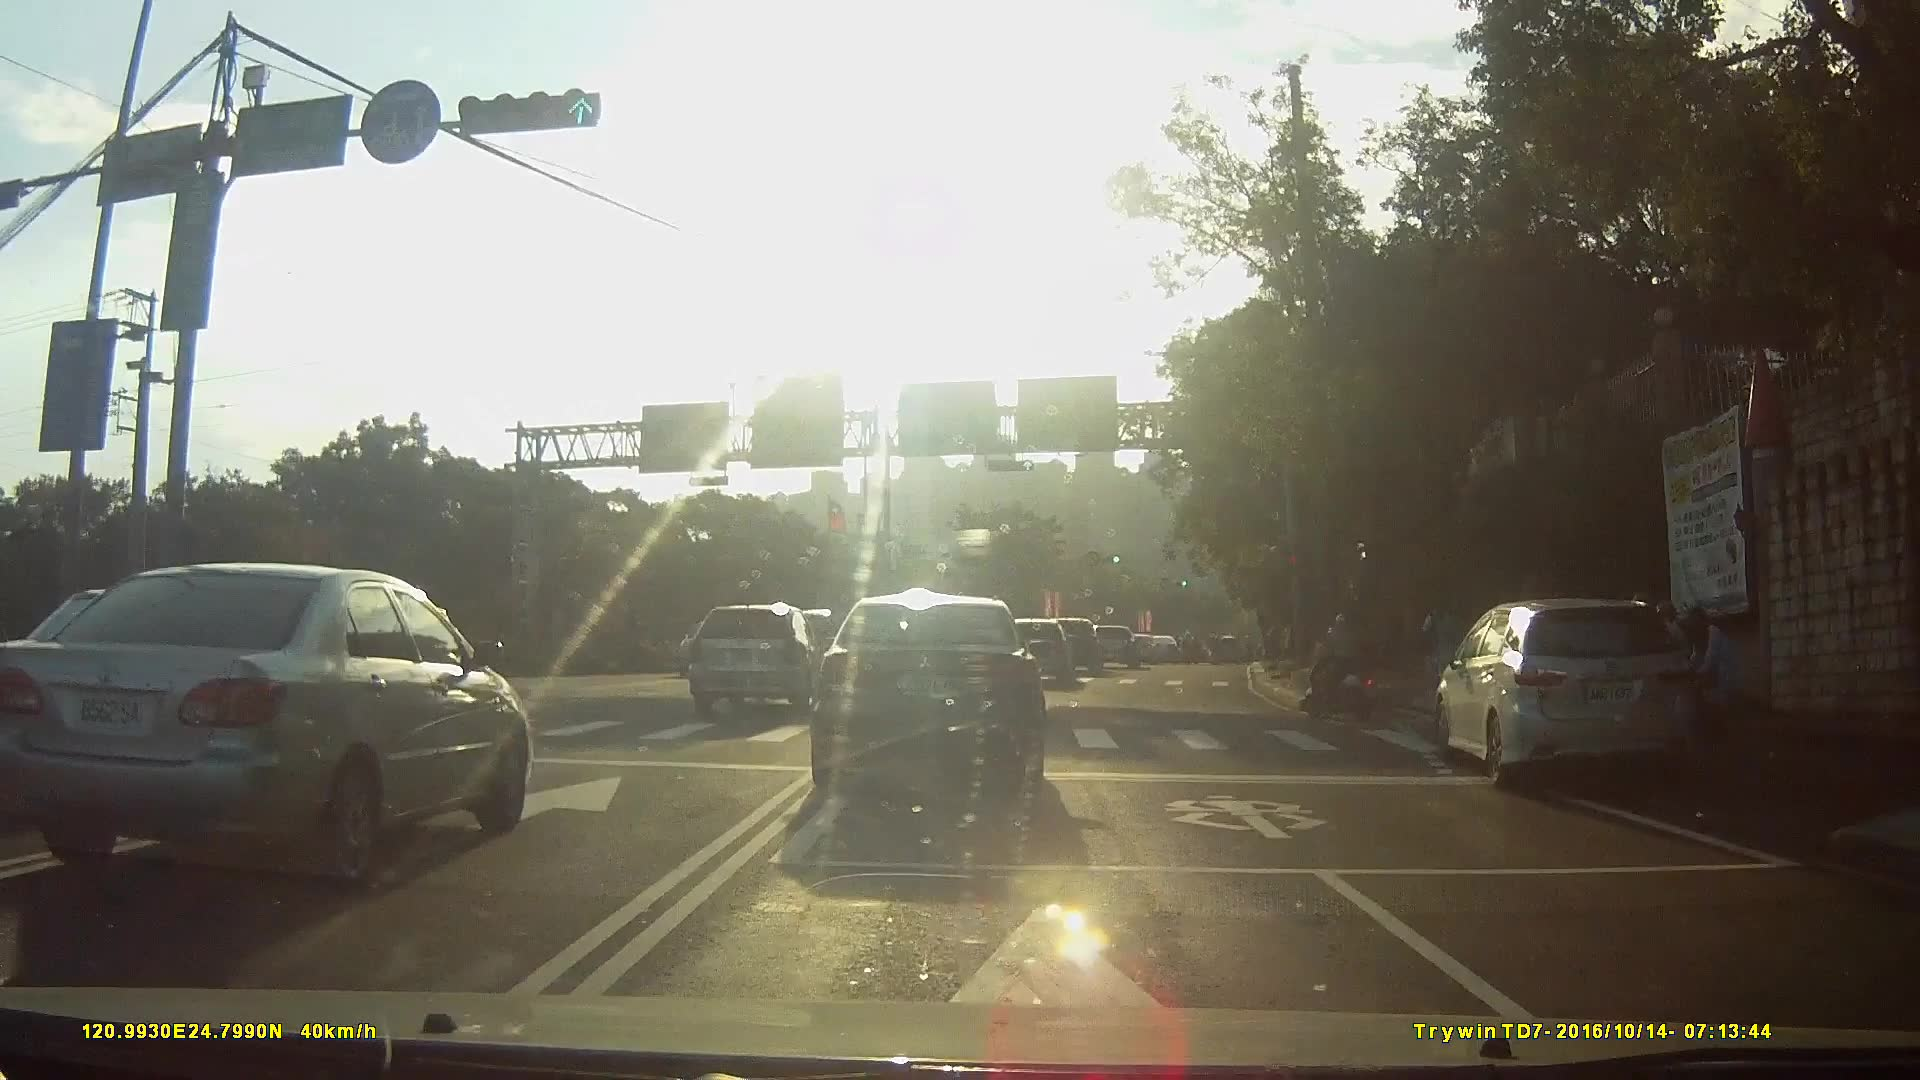pedestrian: (1685, 607, 1750, 730)
rider: (1300, 612, 1389, 722)
vehicle: (1, 564, 547, 888), (1424, 599, 1720, 809), (801, 597, 1069, 816), (699, 605, 846, 718), (1018, 621, 1092, 691), (1053, 620, 1115, 678), (1097, 629, 1152, 675), (1131, 636, 1170, 668), (1158, 639, 1191, 667)
